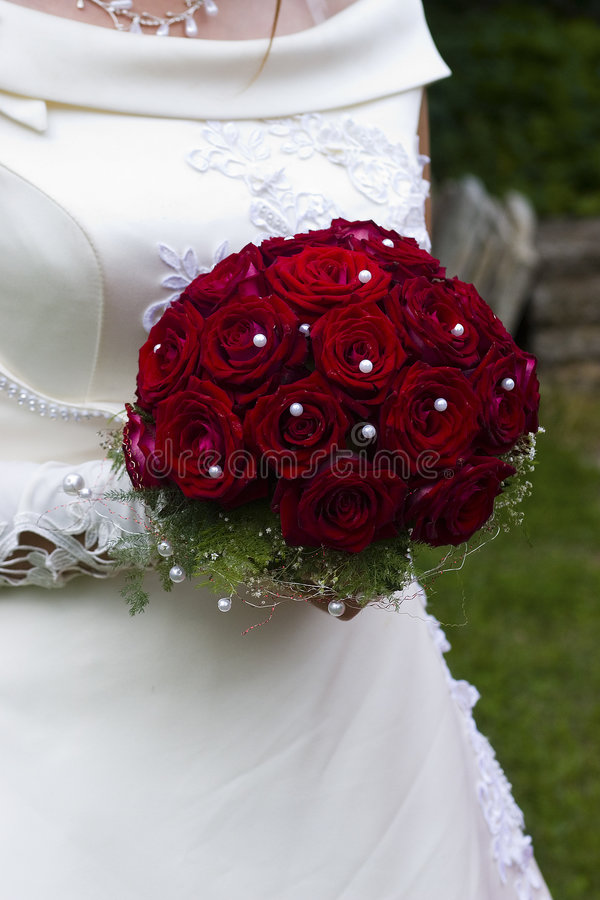RedRose: (270, 459, 400, 556), (140, 383, 247, 489), (194, 286, 295, 384), (387, 363, 473, 472), (307, 303, 408, 394), (257, 386, 352, 482), (267, 250, 393, 314), (406, 466, 506, 539), (471, 356, 543, 456), (380, 281, 466, 364), (127, 296, 195, 396), (450, 283, 531, 363), (179, 241, 260, 304), (115, 399, 164, 494), (355, 231, 446, 278), (318, 216, 400, 255), (247, 223, 322, 261)
